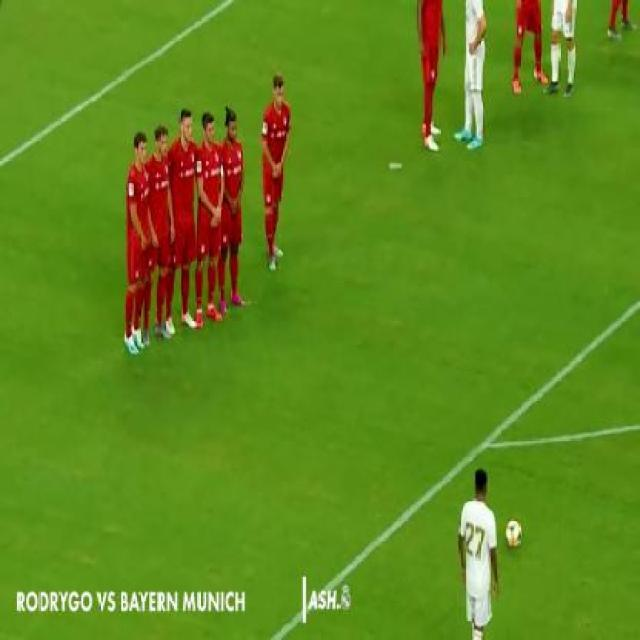ball: (502, 509, 527, 552)
player: (454, 460, 508, 639), (117, 131, 153, 364), (172, 105, 201, 336), (197, 113, 226, 322), (454, 0, 493, 155), (414, 0, 451, 160), (263, 71, 292, 274), (152, 122, 175, 344), (223, 105, 248, 308), (542, 0, 585, 102), (509, 0, 549, 102)
